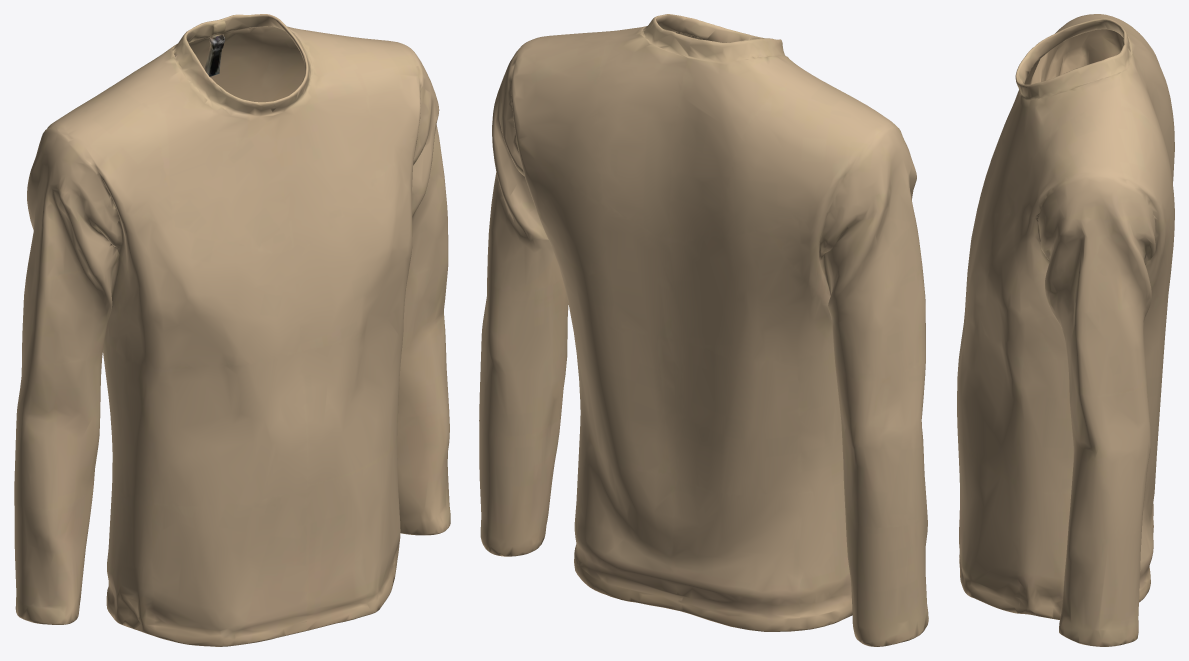
3 views of the same model, side by side, from view 1: azimuth 30°, elevation 25°; view 2: azimuth 150°, elevation 25°; view 3: azimuth 270°, elevation 25° (orthographic). The views are drawn at different scales.
Visible parts, largest first — view 1: tripo_node_1c95f6de-af52-4f85-92cb-f891e52024c4; view 2: tripo_node_1c95f6de-af52-4f85-92cb-f891e52024c4; view 3: tripo_node_1c95f6de-af52-4f85-92cb-f891e52024c4.
Boxes of the visible parts, x1,y1,x2,y2 form: tripo_node_1c95f6de-af52-4f85-92cb-f891e52024c4: (14, 14, 450, 646); tripo_node_1c95f6de-af52-4f85-92cb-f891e52024c4: (479, 14, 928, 646); tripo_node_1c95f6de-af52-4f85-92cb-f891e52024c4: (957, 14, 1174, 646).
Bounding box in the file's own units: 0.8059 × 0.9998 × 0.3777.
1 material, 1 textured.
